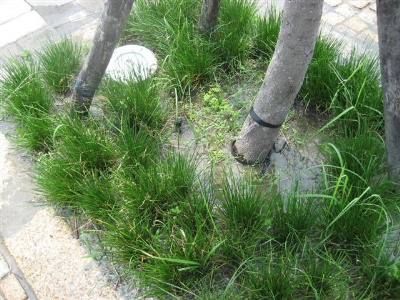plate: (107, 44, 158, 84)
